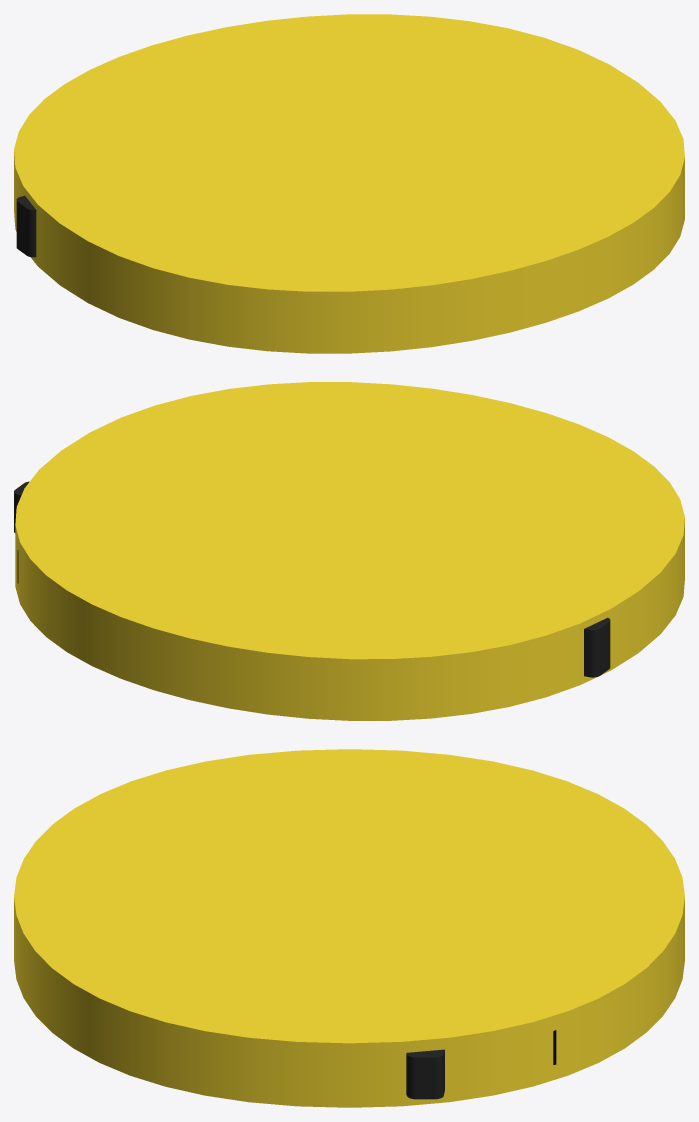
Rendered from emoji_u1f978.glb.
3 renders of one model, top to bottom at view 1: azimuth 30°, elevation 25°; view 2: azimuth 150°, elevation 25°; view 3: azimuth 270°, elevation 25°, orthographic. The views are drawn at different scales.
Parts seen in each view (by area): view 1: emoji_u1f978; view 2: emoji_u1f978; view 3: emoji_u1f978.
Part boxes in pixels (x1=…): emoji_u1f978: x1=14, y1=14, x2=684, y2=353; emoji_u1f978: x1=14, y1=382, x2=684, y2=720; emoji_u1f978: x1=14, y1=749, x2=684, y2=1107.
Bounding box in the file's own units: 0.0337 × 0.0034 × 0.0321.
